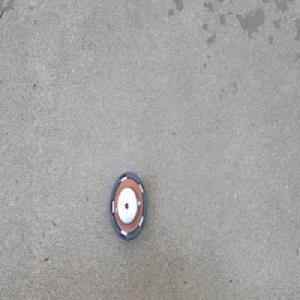FuelCap: (109, 169, 148, 242)
